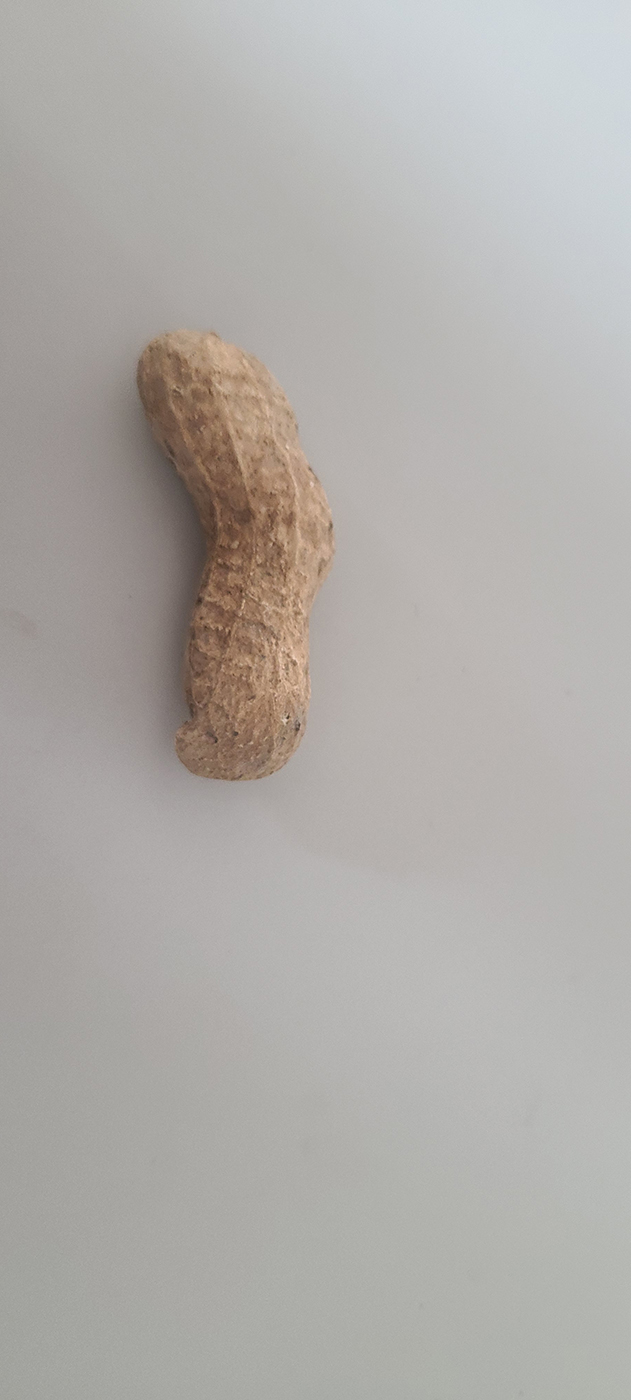h: (136, 325, 334, 788)
